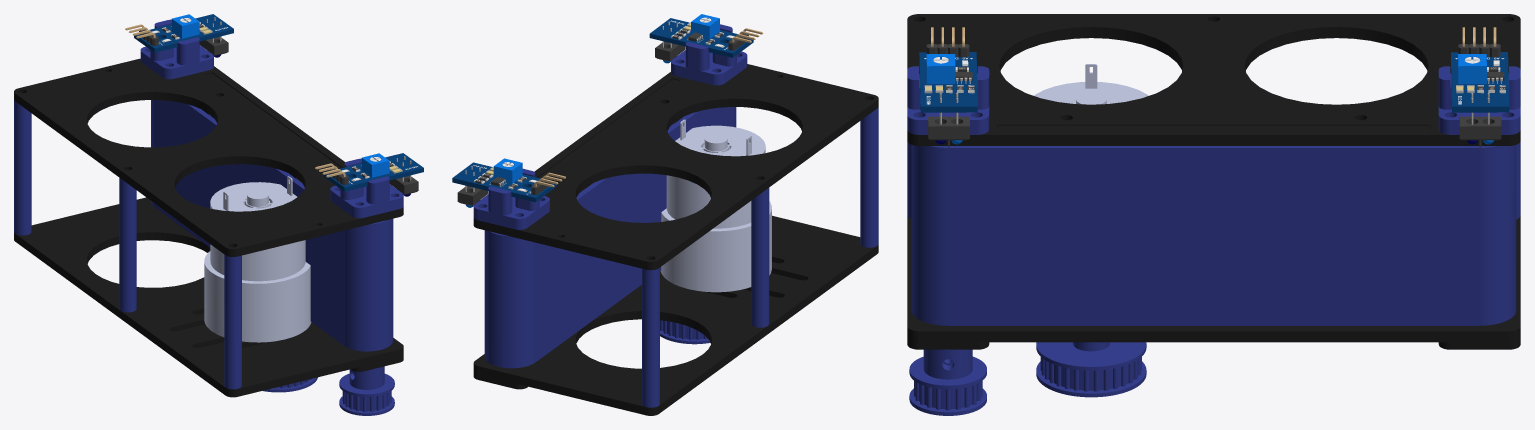
Rendered from ConveyorSingle.fbx.
The picture shows the model from 3 angles, left to right: view 1: azimuth 30°, elevation 25°; view 2: azimuth 150°, elevation 25°; view 3: azimuth 270°, elevation 25°; orthographic projection. The views are drawn at different scales.
Visible parts, largest first — view 1: Body1 (×14), Body2, Body3 (×2); view 2: Body1 (×14), Body2, Body3 (×2); view 3: Body1 (×12), Body2, Body3 (×2).
Part boxes in pixels (x1,y1,x2,y2): Body1 (×14): (14, 14, 423, 415); Body2: (14, 58, 403, 256); Body3 (×2): (140, 19, 403, 218); Body1 (×14): (452, 14, 878, 415); Body2: (473, 64, 878, 270); Body3 (×2): (473, 24, 747, 229); Body1 (×12): (907, 52, 1520, 415); Body2: (907, 14, 1520, 145); Body3 (×2): (907, 66, 1520, 134).
Size of the model in its own units: 78.56 by 92.74 by 150.
